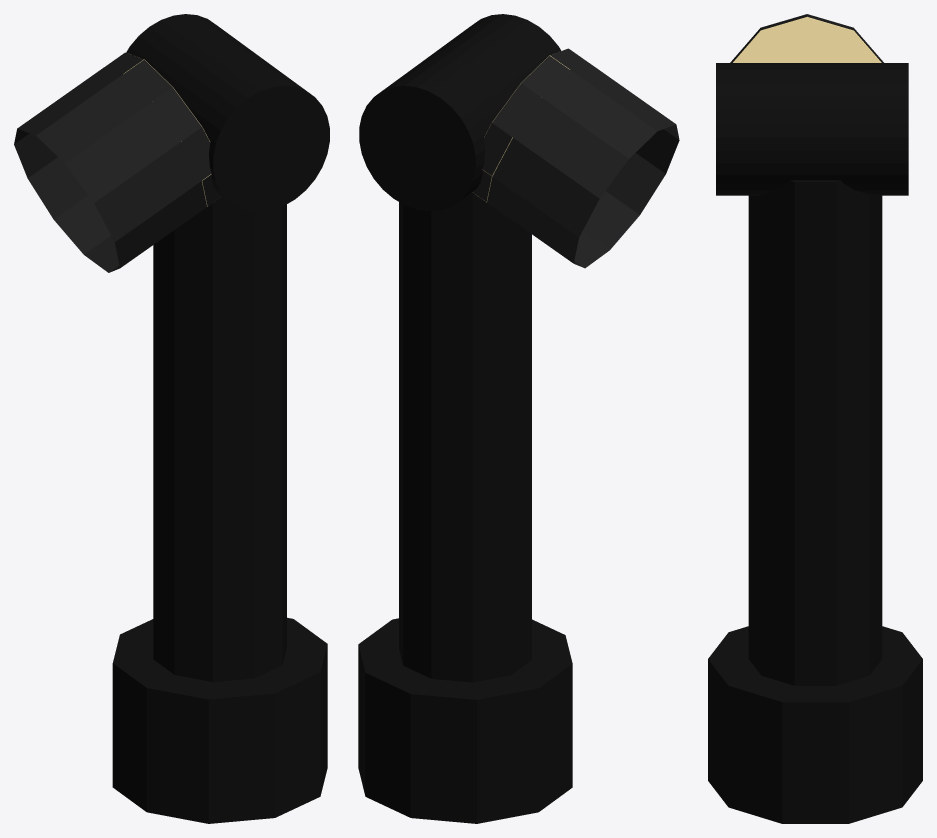
3 renders of one model, left to right at view 1: azimuth 30°, elevation 25°; view 2: azimuth 150°, elevation 25°; view 3: azimuth 270°, elevation 25°, orthographic. The views are drawn at different scales.
Visible parts, largest first — view 1: Cylinder.001, Cylinder, Cylinder.003, Cylinder.002; view 2: Cylinder.001, Cylinder, Cylinder.003, Cylinder.002; view 3: Cylinder.001, Cylinder, Cylinder.002, Cylinder.003.
Boxes of the visible parts, box(x1,y1,x2,y2) form: Cylinder.001: box(153, 196, 286, 681); Cylinder: box(112, 617, 327, 823); Cylinder.003: box(14, 52, 221, 272); Cylinder.002: box(126, 14, 329, 211); Cylinder.001: box(399, 192, 531, 682); Cylinder: box(358, 618, 572, 823); Cylinder.003: box(472, 48, 679, 268); Cylinder.002: box(359, 14, 561, 211); Cylinder.001: box(748, 180, 882, 685); Cylinder: box(708, 626, 922, 823); Cylinder.002: box(716, 63, 908, 195); Cylinder.003: box(730, 14, 883, 62).
Bounding box in the file's own units: 2.93 × 7.45 × 2.
